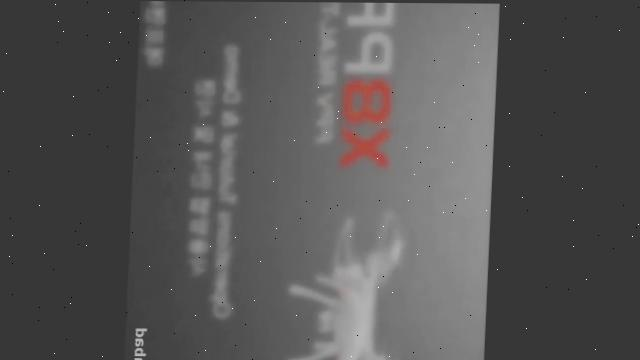drone: (286, 206, 412, 360)
